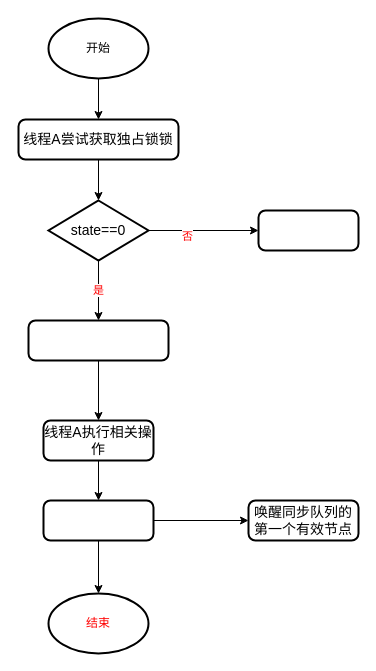
Image size: 376x671. Some labels were removed from this diagram. The box of each missing label's shape, as (x1, y1, x2, y2) in pixels:
线程A加入同步队列，线程A阻塞: (257, 209, 359, 251)
线程A释放锁: (42, 499, 154, 541)
通过cas操作设置state=1: (27, 319, 169, 361)
